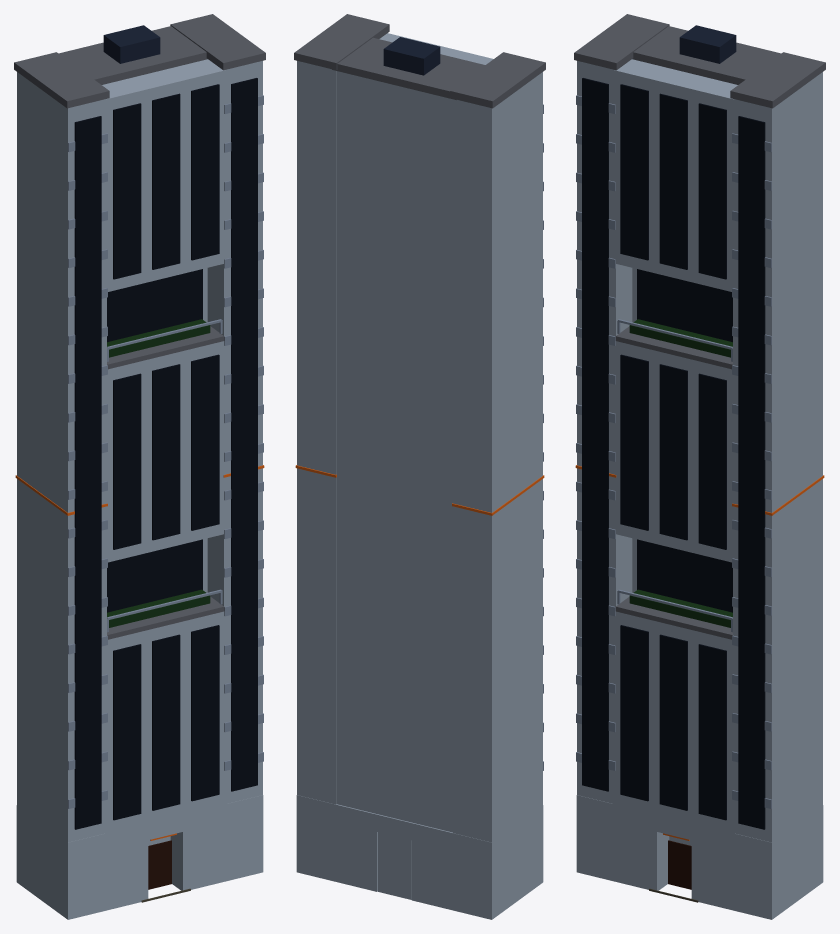
Rendered from pinnacle4.obj.
3 renders of one model, left to right at view 1: azimuth 30°, elevation 25°; view 2: azimuth 150°, elevation 25°; view 3: azimuth 330°, elevation 25°, orthographic.
Visible parts, largest first — view 1: end-shafts, middle-glazing, shaft-glazing, middle-front, base-jambs, void-glazing, caps, spandrels, void-slabs, sky-gardens, roof-plant, entrance (+3 smaller); view 2: end-shafts, middle-back, base-jambs, caps, portal-back, roof-plant, portal-head, middle-front; view 3: end-shafts, middle-glazing, shaft-glazing, middle-front, base-jambs, void-glazing, caps, spandrels, void-slabs, sky-gardens, roof-plant, entrance (+3 smaller).
Boxes of the visible parts, box(x1,y1,x2,y2) form: end-shafts: box(17, 61, 262, 842); middle-glazing: box(113, 84, 219, 820); shaft-glazing: box(74, 78, 257, 829); middle-front: box(102, 59, 225, 833); base-jambs: box(16, 795, 263, 919); void-glazing: box(107, 269, 202, 612); caps: box(14, 14, 265, 108); spandrels: box(68, 95, 263, 808); void-slabs: box(107, 326, 224, 639); sky-gardens: box(107, 319, 210, 627); roof-plant: box(103, 25, 160, 63); entrance: box(148, 840, 171, 889); end-shafts: box(297, 61, 542, 842); middle-back: box(336, 71, 452, 832); base-jambs: box(296, 795, 543, 919); caps: box(294, 14, 545, 108); portal-back: box(378, 832, 411, 899); roof-plant: box(383, 37, 440, 75); portal-head: box(377, 814, 411, 840); middle-front: box(379, 33, 493, 64); end-shafts: box(577, 61, 822, 842); middle-glazing: box(620, 84, 726, 820); shaft-glazing: box(582, 78, 765, 829); middle-front: box(614, 59, 737, 833); base-jambs: box(576, 795, 823, 919); void-glazing: box(637, 269, 732, 612); caps: box(574, 14, 825, 108); spandrels: box(576, 95, 771, 808); void-slabs: box(615, 326, 732, 639); sky-gardens: box(629, 319, 732, 627); roof-plant: box(679, 25, 736, 63); entrance: box(668, 840, 691, 889).
Size of the model in its own units: 6.92 by 27.8 by 3.21.
